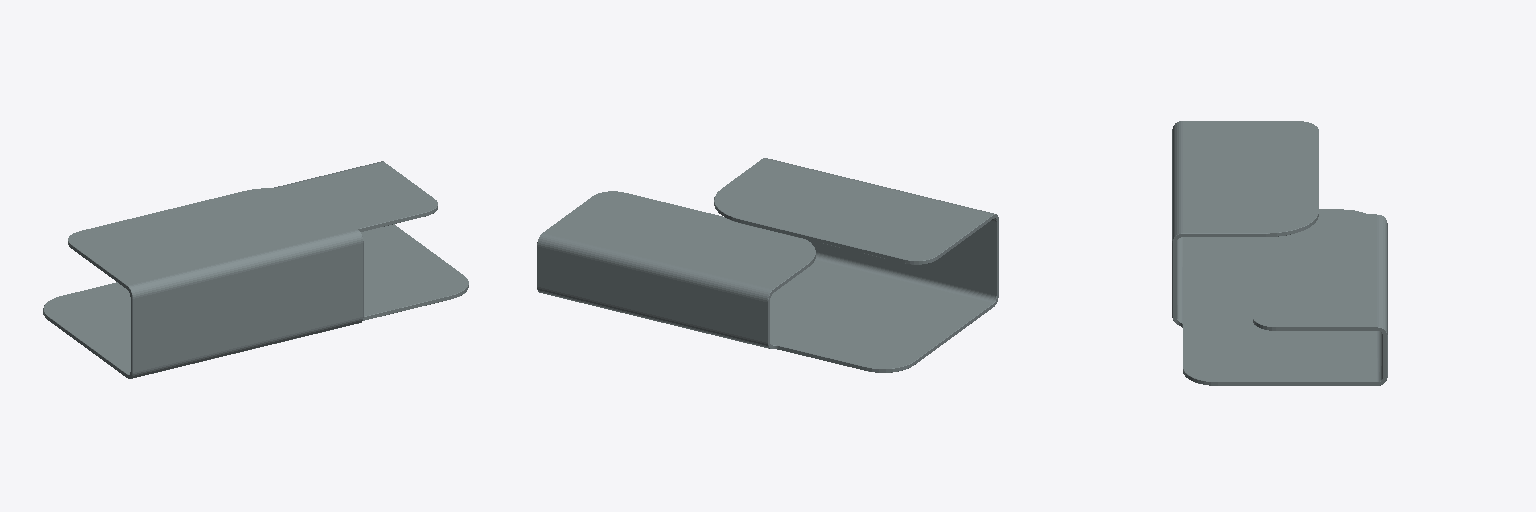
The model's file is 191_tavolino_Hug_nero.obj.
3 views of the same model, side by side, from view 1: azimuth 30°, elevation 25°; view 2: azimuth 150°, elevation 25°; view 3: azimuth 270°, elevation 25° (orthographic).
Parts seen in each view (by area): view 1: 3; view 2: 3; view 3: 3.
Boxes of the visible parts, box(x1,y1,x2,y2) form: 3: box(43, 161, 468, 378); 3: box(537, 158, 998, 372); 3: box(1172, 121, 1387, 385).
Size of the model in its own units: 138 by 36.4 by 72.6.